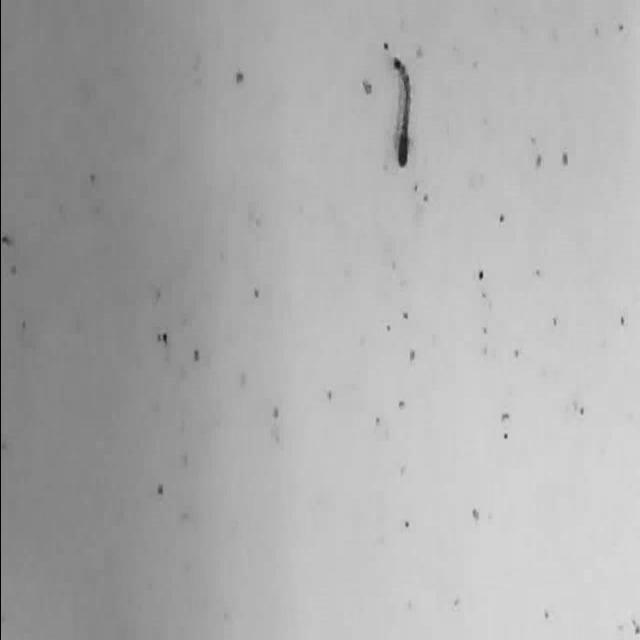larvas: (391, 54, 414, 167)
